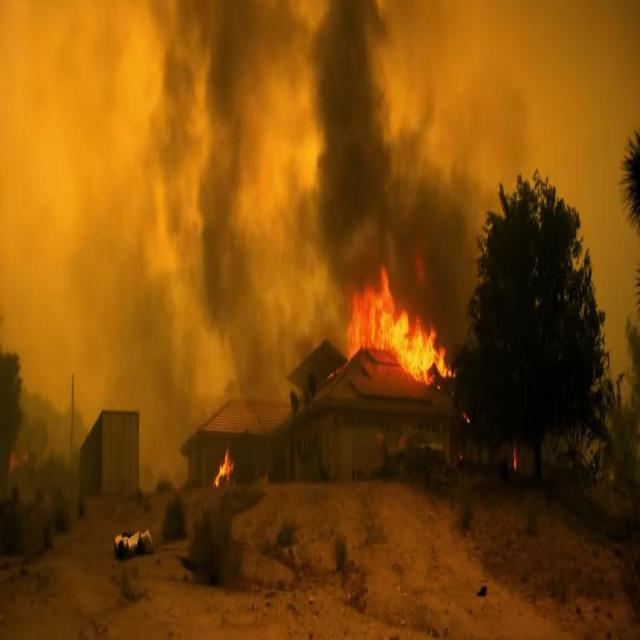fire: (343, 256, 446, 389)
